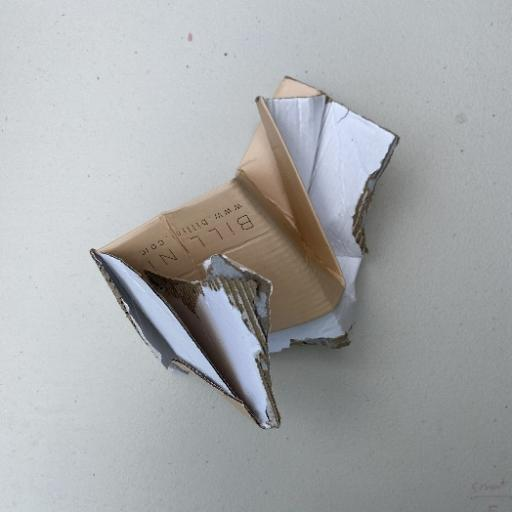Cardboard: (88, 73, 402, 431)
